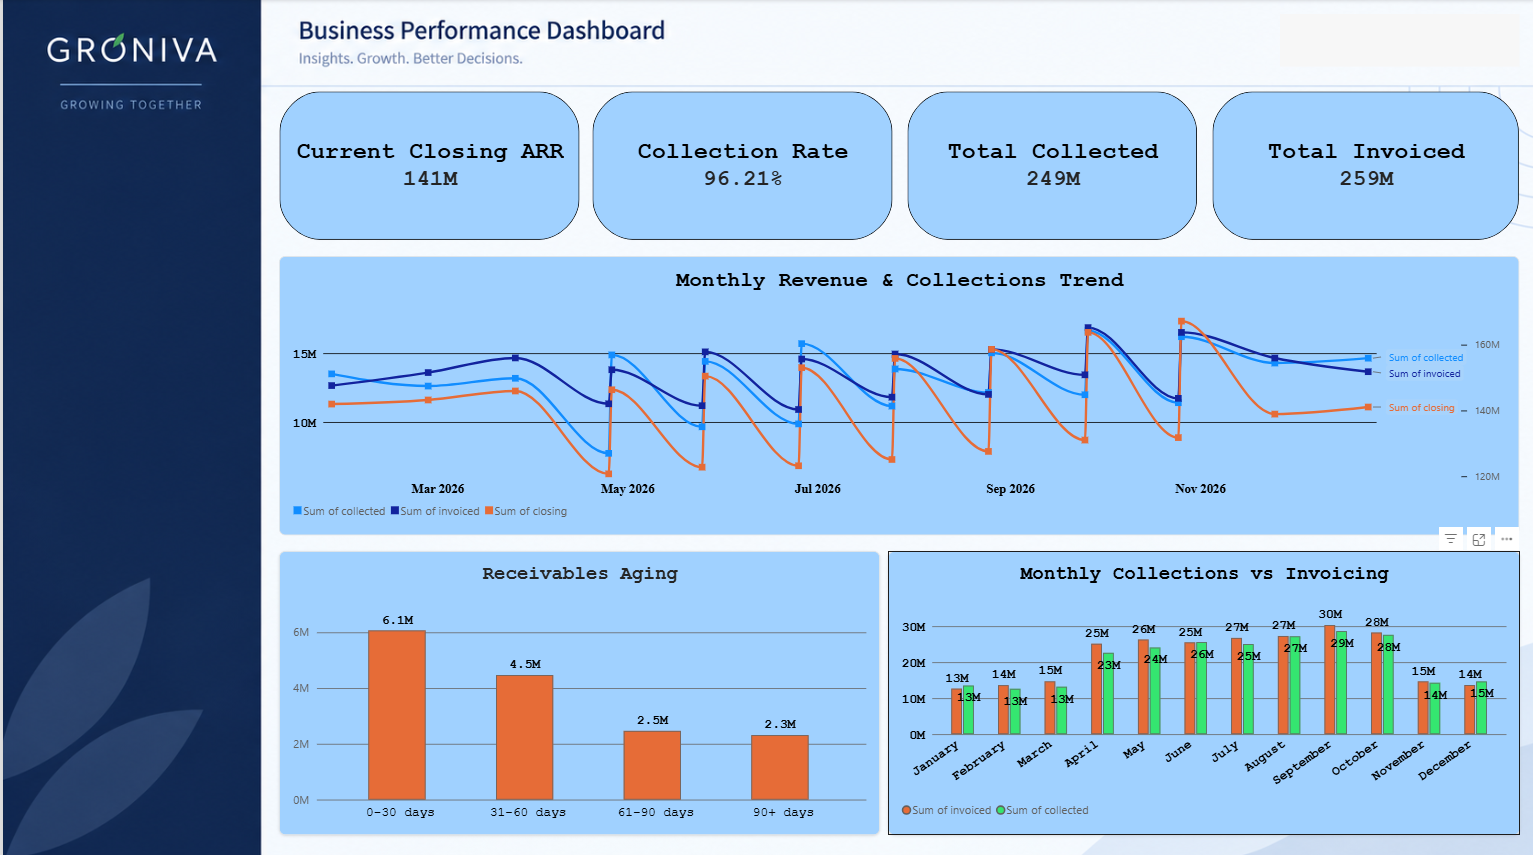

This screenshot's page, from the dashboard's own definition file:
{"tool":"powerbi","page":{"name":"Revenue & Collections","canvas":[1920,1080],"ordinal":2},"visuals":[{"type":"shape","box":[1599.8,18.9,300.3,66],"z":0},{"type":"cardVisual","fields":{"Data":["ARR_Collections.Total Invoiced"]},"box":[1515,115.8,385.1,187.2],"z":5},{"type":"cardVisual","fields":{"Data":["ARR_Collections.Current Closing ARR"]},"box":[346.1,115.8,377.1,187.2],"z":6},{"type":"cardVisual","fields":{"Data":["ARR_Collections.Collection Rate"]},"box":[738,115.8,377.1,187.2],"z":7},{"type":"cardVisual","fields":{"Data":["ARR_Collections.Total Collected"]},"box":[1132.5,115.8,364.9,187.2],"z":8},{"type":"lineChart","title":"Monthly Revenue & Collections Trend","fields":{"Category":["ARR_Collections.month"],"Y":["Sum(ARR_Collections.collected)","Sum(ARR_Collections.invoiced)"],"Y2":["Sum(ARR_Collections.closing)"]},"box":[346.1,321.8,1554,350.1],"z":9},{"type":"columnChart","title":"Receivables Aging","fields":{"Category":["Receivable_Aging.bucket"],"Y":["Sum(Receivable_Aging.amount)"]},"box":[346.1,692.2,752.8,355.5],"z":10},{"type":"clusteredColumnChart","title":"Monthly Collections vs Invoicing","fields":{"Category":["ARR_Collections.month.Variation.Date Hierarchy.Month"],"Y":["Sum(ARR_Collections.invoiced)","Sum(ARR_Collections.collected)"]},"box":[1108.3,692.2,791.8,355.5],"z":11}]}

Visuals, with their boxes in screenshot pixels (x1, y1, x2, y2), scaled from the page's 1920x1080 canvas onto the 1533x855 screenshot:
shape: <box>1277,15,1517,67</box>
cardVisual - ARR_Collections.Total Invoiced: <box>1210,92,1517,240</box>
cardVisual - ARR_Collections.Current Closing ARR: <box>276,92,577,240</box>
cardVisual - ARR_Collections.Collection Rate: <box>589,92,890,240</box>
cardVisual - ARR_Collections.Total Collected: <box>904,92,1196,240</box>
"Monthly Revenue & Collections Trend" lineChart: <box>276,255,1517,532</box>
"Receivables Aging" columnChart: <box>276,548,877,829</box>
"Monthly Collections vs Invoicing" clusteredColumnChart: <box>885,548,1517,829</box>
